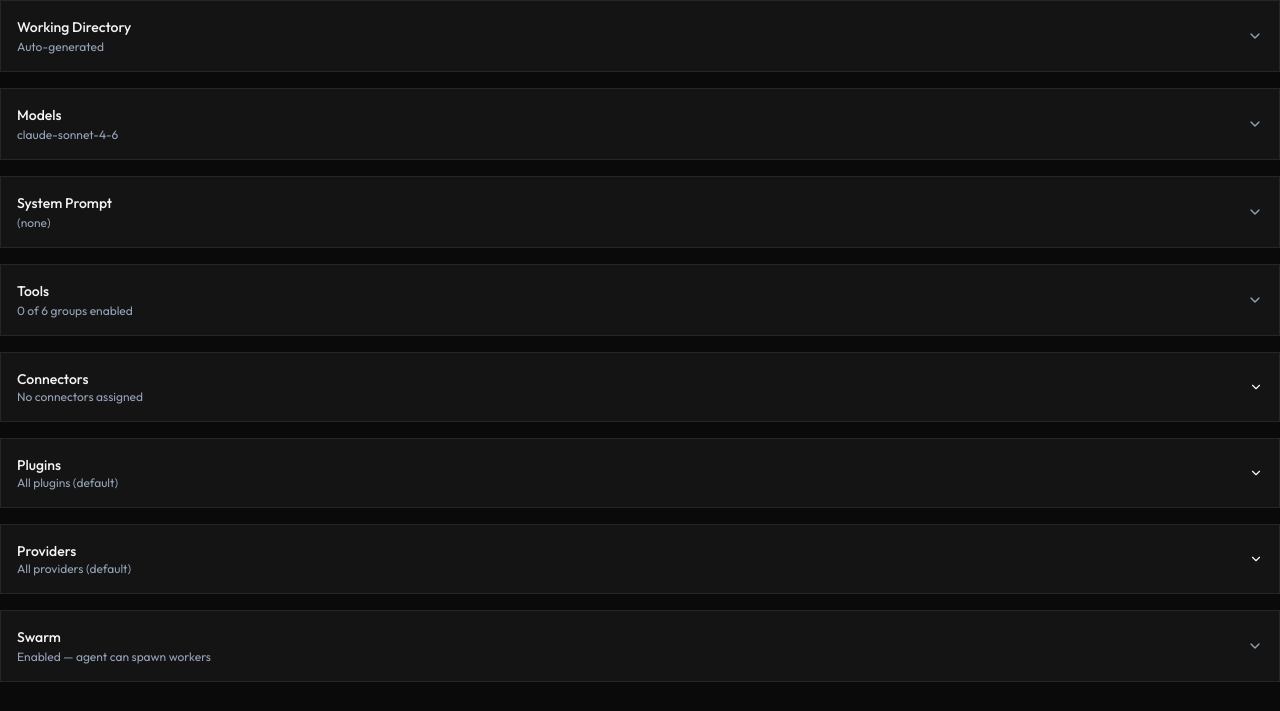
Test case: AgentConfigTab providers card › shows the "All providers" indicator when providers is unset
This screenshot has width=1280, height=711.
Expected: the text "All providers (default)" is shown, [17,561,131,577]
Click the button "Providers All providers (default)" at (47,551), box [1,525,1279,593]
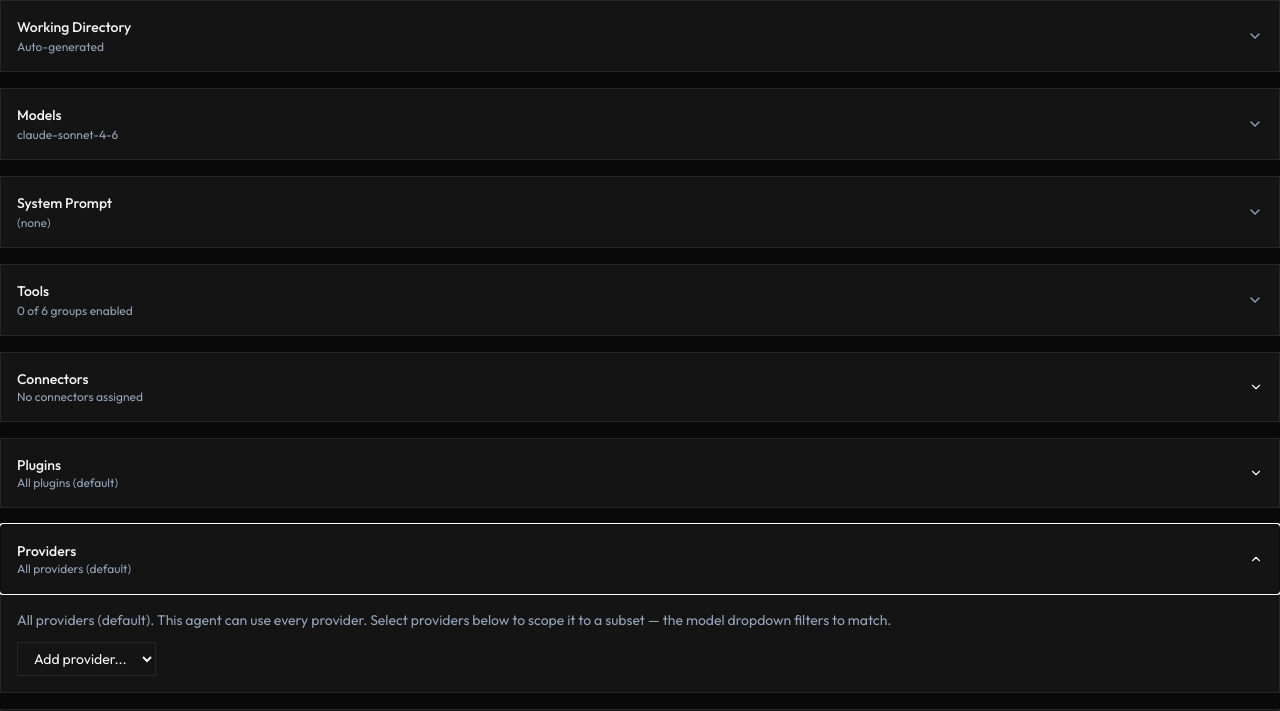
Expected: the text "All providers (default). This agent can use every provider" is shown, [17,611,891,629]
